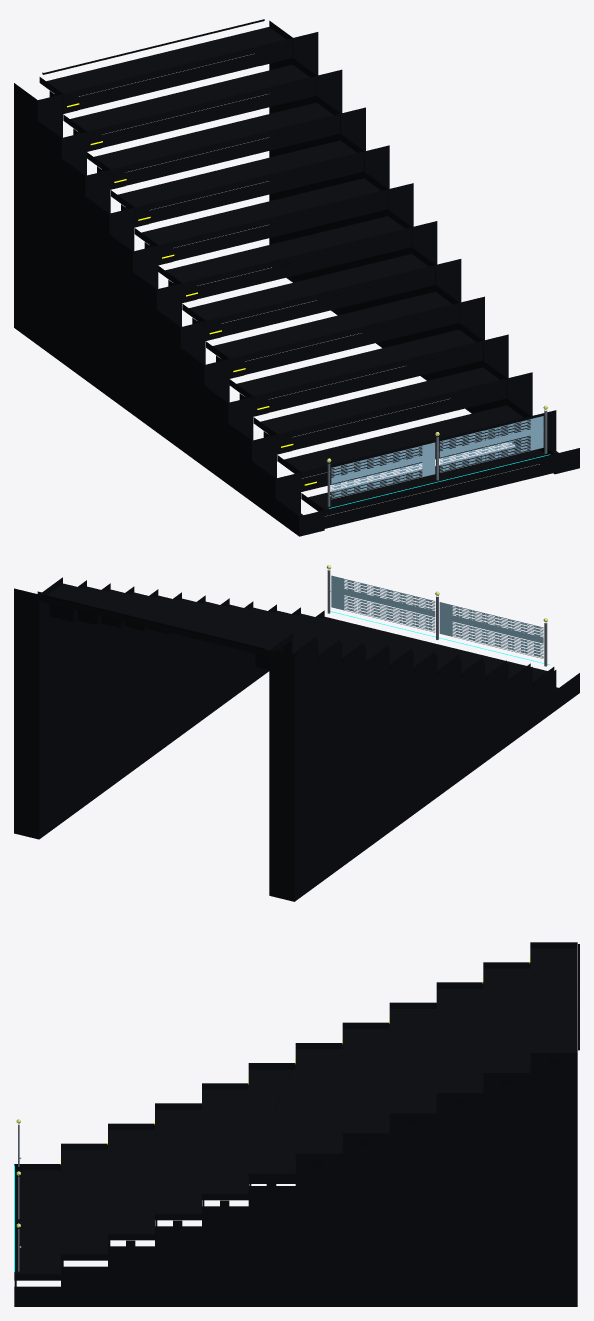
The model's file is tt_stand_module_f3_6p5.glb.
3 views of the same model, one above another, from view 1: azimuth 30°, elevation 25°; view 2: azimuth 150°, elevation 25°; view 3: azimuth 270°, elevation 25° (orthographic).
Visible parts, largest first — view 1: Tier_Slabs, Aisle_Solid, Risers, Guard_Scissor, Beams; view 2: Aisle_Solid, Tier_Slabs, Guard_Scissor, Beams, Rail_Posts; view 3: Aisle_Solid, Tier_Slabs, Beams.
Boxes of the visible parts, x1,y1,x2,y2 form: Tier_Slabs: [39, 27, 554, 516]; Aisle_Solid: [14, 20, 579, 536]; Risers: [63, 44, 554, 528]; Guard_Scissor: [331, 416, 543, 499]; Beams: [42, 19, 497, 454]; Aisle_Solid: [14, 577, 579, 901]; Tier_Slabs: [39, 583, 554, 684]; Guard_Scissor: [331, 575, 543, 658]; Beams: [42, 594, 283, 669]; Rail_Posts: [327, 570, 547, 666]; Aisle_Solid: [14, 942, 577, 1306]; Tier_Slabs: [14, 948, 577, 1280]; Beams: [126, 944, 579, 1246].
Size of what is drawn, in the model's own units: 6.47 by 5.45 by 11.46.
Materials: 8 (4 with a texture image).
